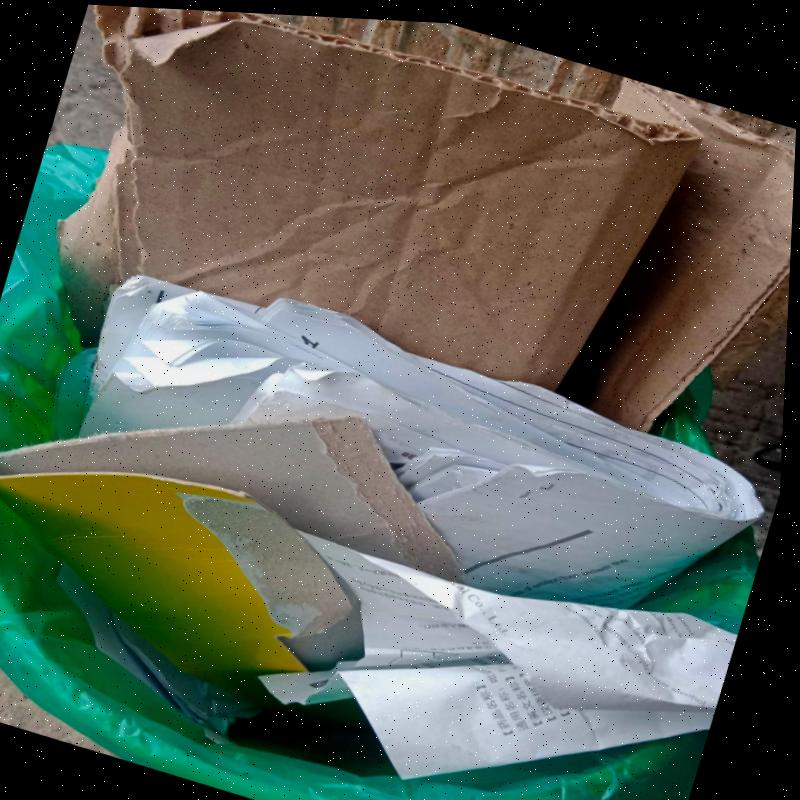cardboard: (50, 5, 795, 435), (0, 418, 468, 679)
paper: (75, 275, 765, 608), (292, 528, 731, 778)
